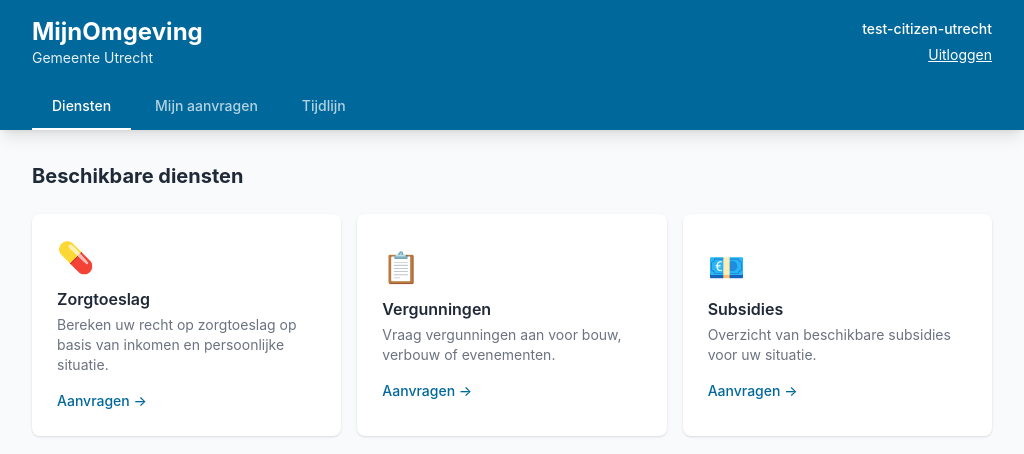
Dashboard › Mijn aanvragen shows an error message when loading fails
Click the button "Mijn aanvragen" at {"x": 206, "y": 107}, box 135,84 -> 278,130
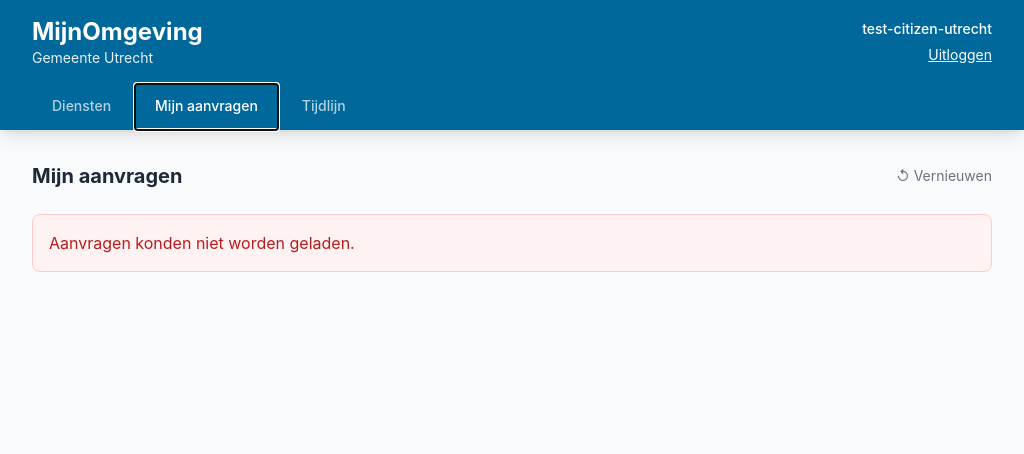
Check: the text "Aanvragen konden niet worden geladen." is shown, box 32,214 -> 992,272
